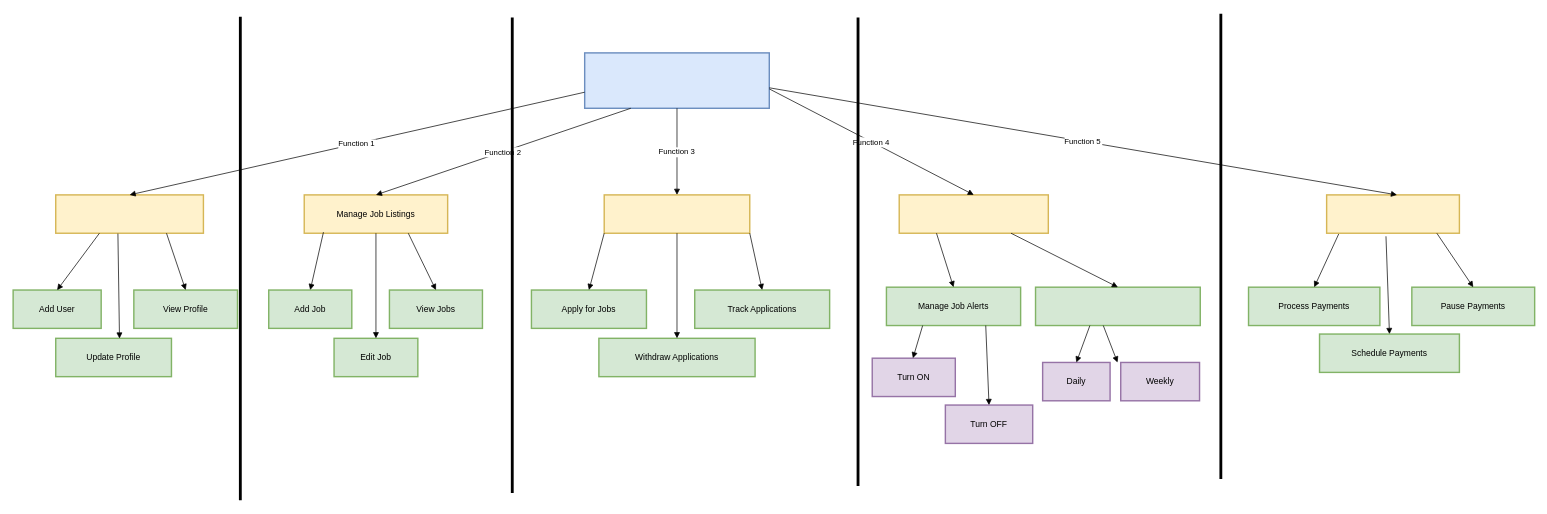
This 1547x514 diagram has some shape labels left out. Each missing label, with the centre of its shape:
"Job Portal Management System" belongs at pixel 677 80.
"Manage Applications" belongs at pixel 676 214.
"Manage Interview Alerts" belongs at pixel 1117 306.
"Manage Notifications" belongs at pixel 973 214.
"Manage Payments" belongs at pixel 1393 214.
"Manage User Profiles" belongs at pixel 129 214.
